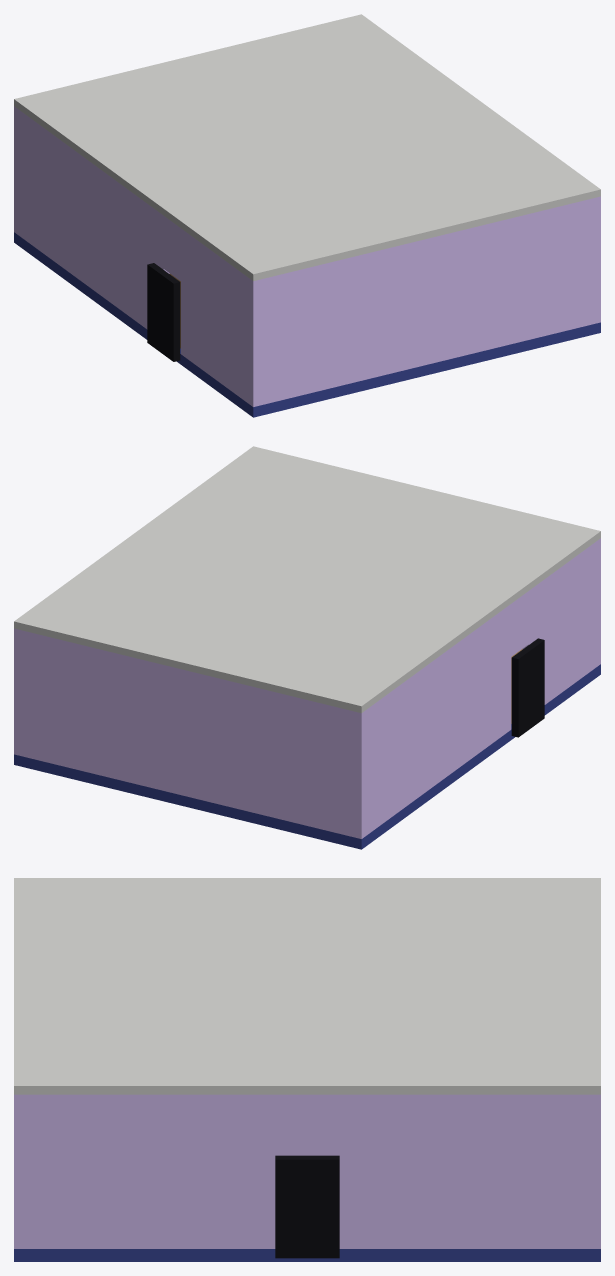
Rendered from rdwe_moon_window.glb.
The picture shows the model from 3 angles, top to bottom: view 1: azimuth 30°, elevation 25°; view 2: azimuth 150°, elevation 25°; view 3: azimuth 270°, elevation 25°; orthographic projection. The views are drawn at different scales.
Parts seen in each view (by area): view 1: Room_Ceiling, Room_Wall_S_1, Room_Wall_W_1, Room_Wall_W_3, Room_Floor, Beyond_sill, Room_Wall_W_2; view 2: Room_Ceiling, Room_Wall_N_1, Room_Wall_W_1, Room_Wall_W_3, Room_Floor, Beyond_sill, Room_Wall_W_2; view 3: Room_Ceiling, Room_Wall_E_1, Room_Wall_E_3, Room_Floor, Beyond_hall, Room_Wall_E_2, Room_Wall_N_1, Room_Wall_S_1.
Part boxes in pixels (left/top/right/bottom): Room_Ceiling: left=14, top=14, right=600, bottom=281; Room_Wall_S_1: left=249, top=196, right=600, bottom=406; Room_Wall_W_1: left=18, top=109, right=169, bottom=329; Room_Wall_W_3: left=181, top=228, right=249, bottom=403; Room_Floor: left=14, top=232, right=600, bottom=417; Beyond_sill: left=147, top=263, right=180, bottom=361; Room_Wall_W_2: left=163, top=216, right=180, bottom=280; Room_Ceiling: left=14, top=446, right=600, bottom=713; Room_Wall_N_1: left=14, top=628, right=365, bottom=838; Room_Wall_W_1: left=365, top=604, right=511, bottom=835; Room_Wall_W_3: left=522, top=541, right=596, bottom=704; Room_Floor: left=14, top=664, right=600, bottom=849; Beyond_sill: left=511, top=638, right=544, bottom=737; Room_Wall_W_2: left=511, top=591, right=528, bottom=656; Room_Ceiling: left=14, top=878, right=600, bottom=1094; Room_Wall_E_1: left=328, top=1094, right=591, bottom=1248; Room_Wall_E_3: left=23, top=1094, right=286, bottom=1248; Room_Floor: left=14, top=1249, right=600, bottom=1261; Beyond_hall: left=275, top=1155, right=339, bottom=1258; Room_Wall_E_2: left=286, top=1094, right=328, bottom=1155; Room_Wall_N_1: left=591, top=1094, right=600, bottom=1248; Room_Wall_S_1: left=14, top=1094, right=23, bottom=1248.
Bounding box in the file's own units: 11.1 × 4.1 × 12.4.
